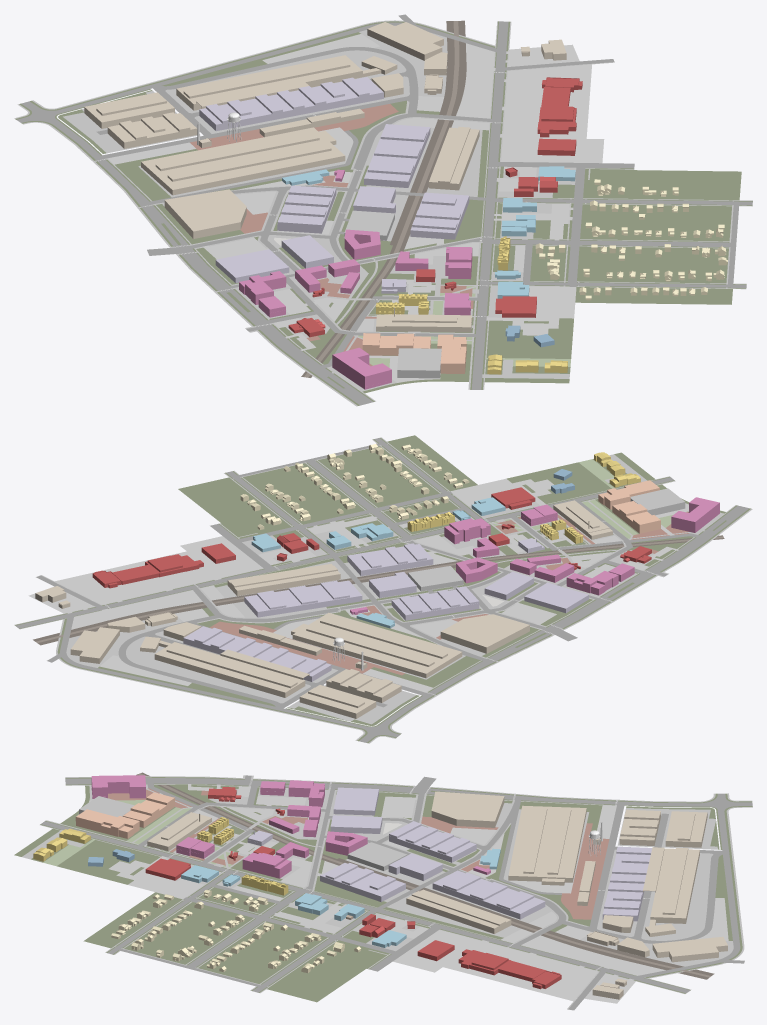
File: InnovationMixedUse_CC.glb
3 views of the same model, one above another, from view 1: azimuth 30°, elevation 25°; view 2: azimuth 150°, elevation 25°; view 3: azimuth 270°, elevation 25° (orthographic). The views are drawn at different scales.
Parts seen in each view (by area): view 1: Group1.003, Component_101_1, Component_108_1, Group5.003, Component_52_1, Component_102_1, Group6.003, Component_96_1, Office_12_Detail_v2_1_1, Component_7_2.001, Mixed_Use_5_1, Mixed_Use_37_3_2 (+15 smaller); view 2: Group1.003, Component_101_1, Component_108_1, Group5.003, Component_52_1, Component_102_1, Component_7_2.001, Group6.003, Component_7_1.001, Component_96_1, Mixed_Use_37_3_2, Component_7_3.001 (+17 smaller); view 3: Group1.003, Component_101_1, Component_108_1, Group5.003, Component_52_1, Component_102_1, Component_7_2.001, Component_96_1, Group6.003, Component_7_1.001, Group8.003, Mixed_Use_5_1 (+24 smaller).
Part boxes in pixels (<box>): Group1.003: <box>14,14,752,406</box>; Component_101_1: <box>141,127,345,195</box>; Component_108_1: <box>84,55,362,128</box>; Group5.003: <box>199,77,383,131</box>; Component_52_1: <box>164,189,246,238</box>; Component_102_1: <box>428,127,479,190</box>; Group6.003: <box>107,112,197,148</box>; Component_96_1: <box>367,22,443,60</box>; Office_12_Detail_v2_1_1: <box>376,314,471,332</box>; Component_7_2.001: <box>364,124,430,187</box>; Mixed_Use_5_1: <box>332,347,391,389</box>; Mixed_Use_37_3_2: <box>215,249,289,283</box>; Group1.003: <box>14,435,752,743</box>; Component_101_1: <box>292,612,462,678</box>; Component_108_1: <box>154,642,376,718</box>; Group5.003: <box>183,626,331,681</box>; Component_52_1: <box>440,614,529,653</box>; Component_102_1: <box>227,563,340,596</box>; Component_7_2.001: <box>244,580,362,617</box>; Group6.003: <box>326,669,401,702</box>; Component_7_1.001: <box>347,544,433,576</box>; Component_96_1: <box>70,627,119,663</box>; Mixed_Use_37_3_2: <box>524,582,588,613</box>; Component_7_3.001: <box>391,589,479,620</box>; Group1.003: <box>14,772,752,1010</box>; Component_101_1: <box>508,805,586,882</box>; Component_108_1: <box>650,811,707,923</box>; Group5.003: <box>602,846,652,921</box>; Component_52_1: <box>431,791,504,827</box>; Component_102_1: <box>406,889,511,933</box>; Component_7_2.001: <box>432,870,545,919</box>; Component_96_1: <box>652,936,727,962</box>; Group6.003: <box>619,809,660,845</box>; Component_7_1.001: <box>320,863,405,901</box>; Group8.003: <box>75,809,139,838</box>; Mixed_Use_5_1: <box>91,775,145,798</box>.
Size of the model in its own units: 27.18 by 1.23 by 35.65.
